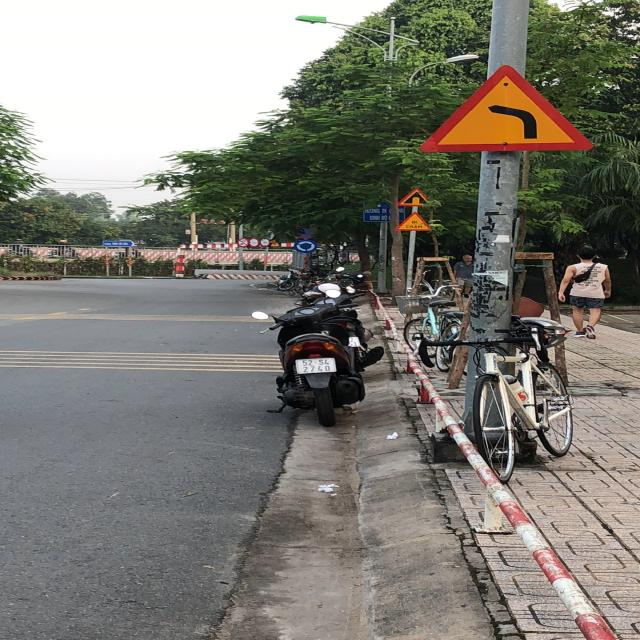Bien bao cho ngoat nguy hiem: (412, 56, 600, 154)
Bien bao di cham: (391, 210, 437, 234)
Bien bao noi giao nhau chay theo vong xuyen: (292, 238, 320, 254)
